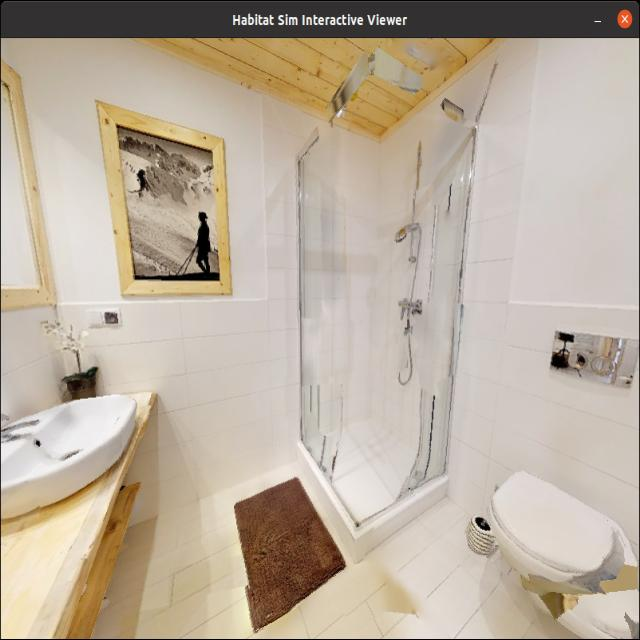shower: (289, 59, 478, 554)
sink: (0, 388, 136, 518)
toilet: (474, 445, 628, 604)
